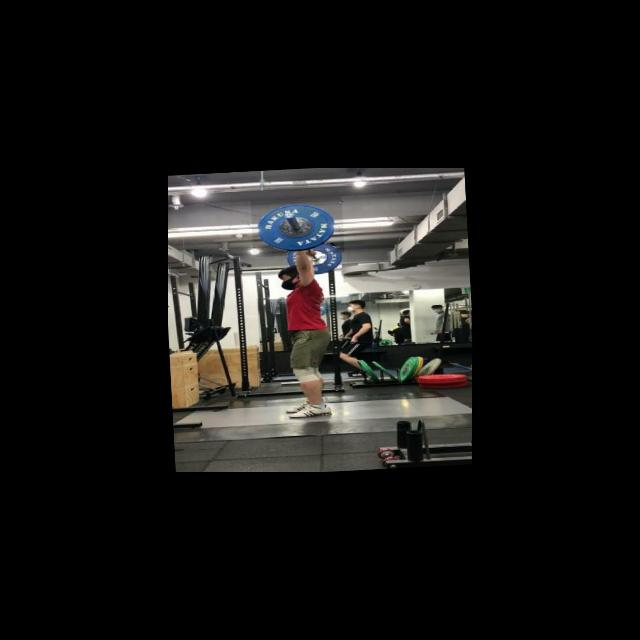barbell: (251, 196, 346, 257)
